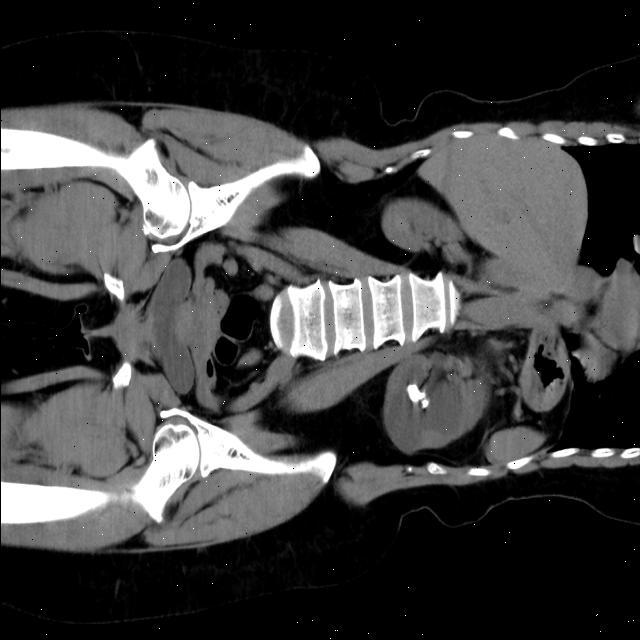kidneystone: (406, 384, 428, 409)
